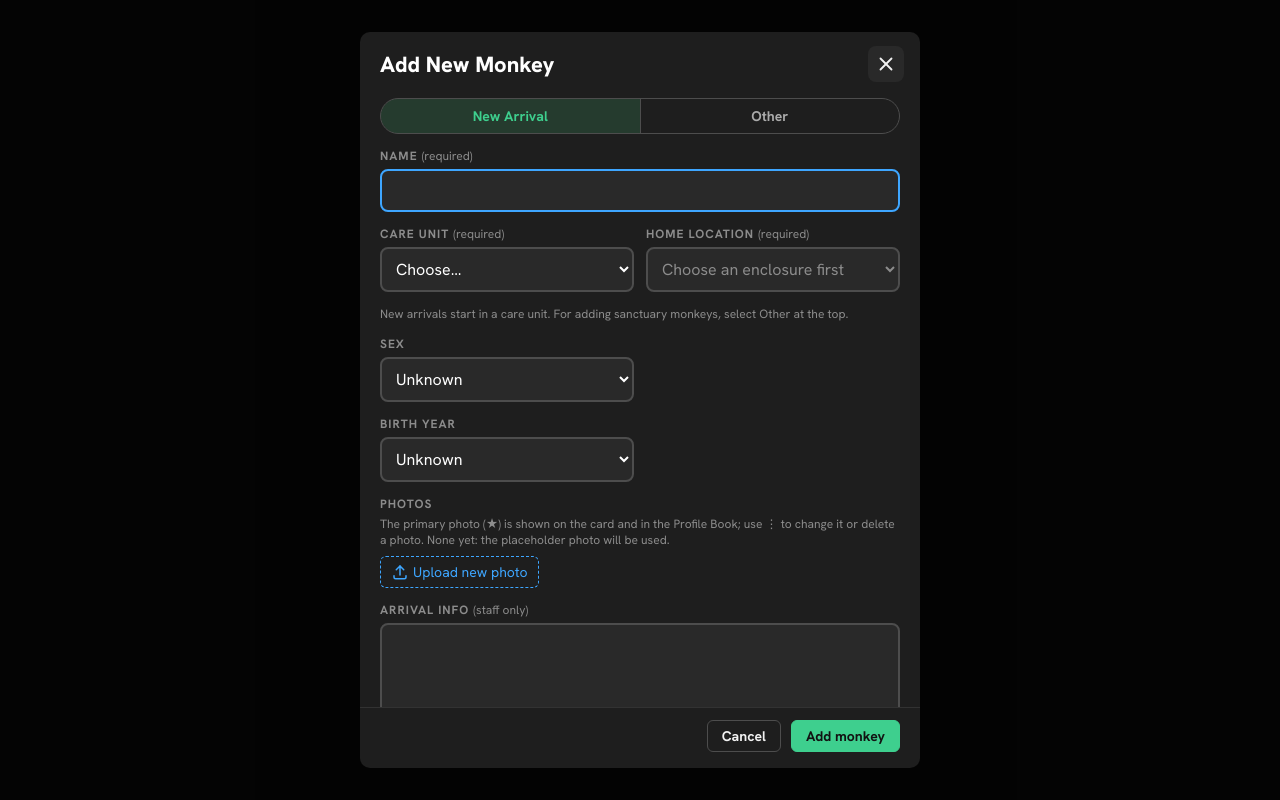
Other › going back to New Arrival starts the care unit choice again
Click the button "Other". click: (769,116)
box: x1=640 y1=99 x2=899 y2=133
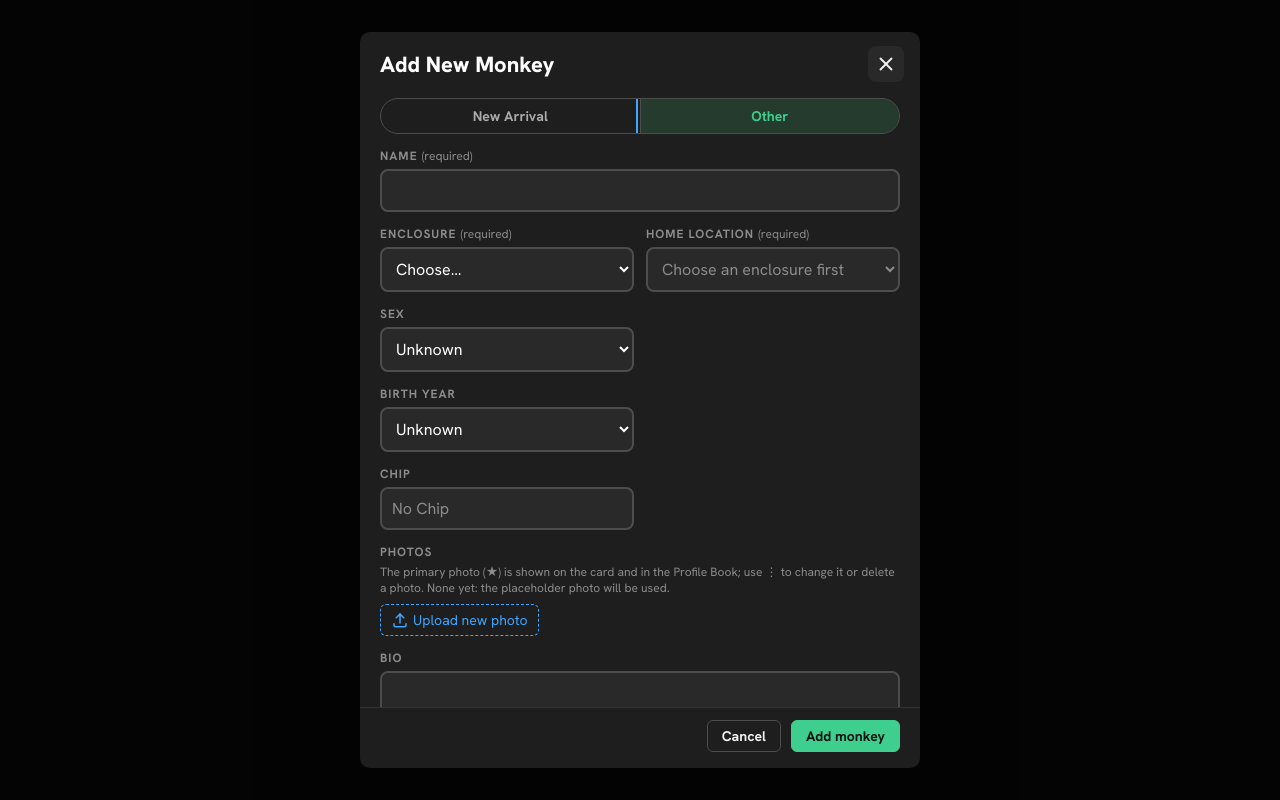
Select "Goliath" in the dropdown labelled "Enclosure". click: (507,270)
box: x1=380 y1=247 x2=634 y2=292
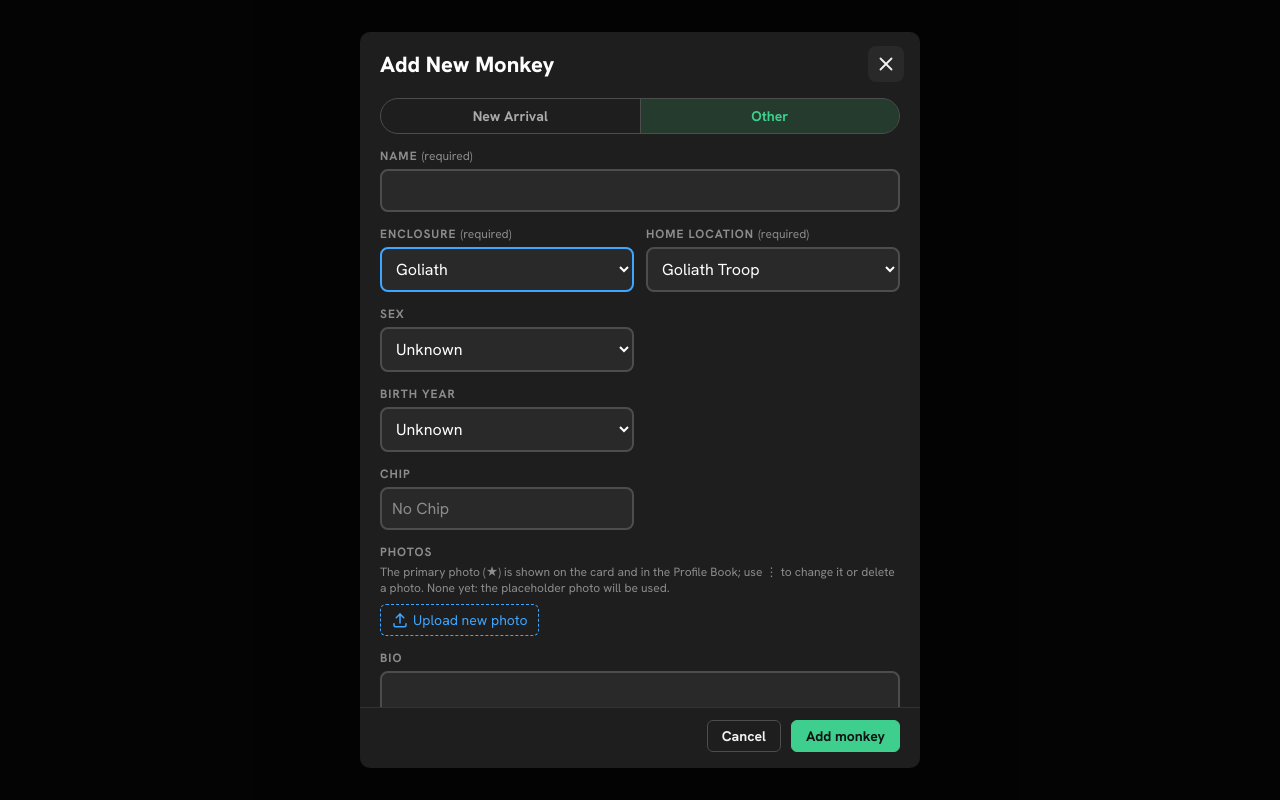
Click the button "New Arrival". click: (510,116)
box: x1=381 y1=99 x2=640 y2=133
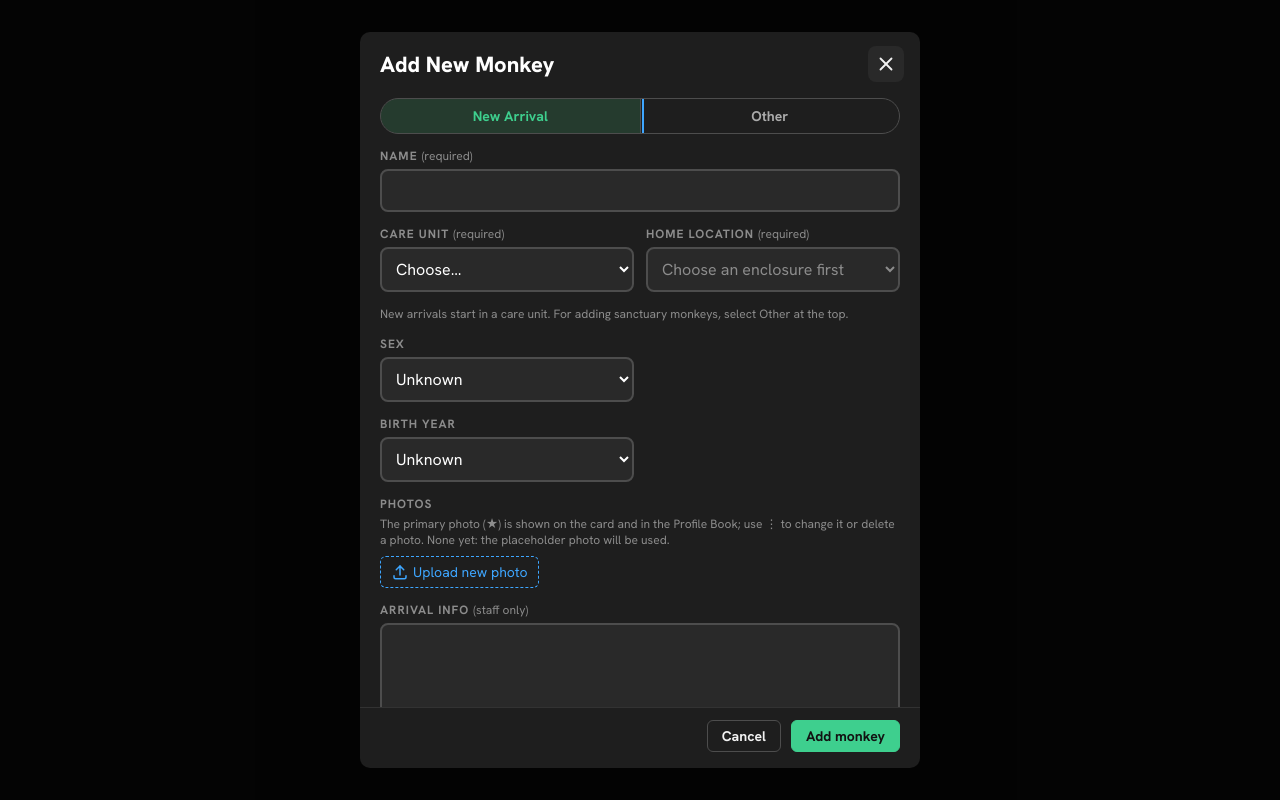
Check: the dropdown labelled "Care Unit" is enabled, box x1=380 y1=247 x2=634 y2=292
Check: the label labelled "Chip" is gone
